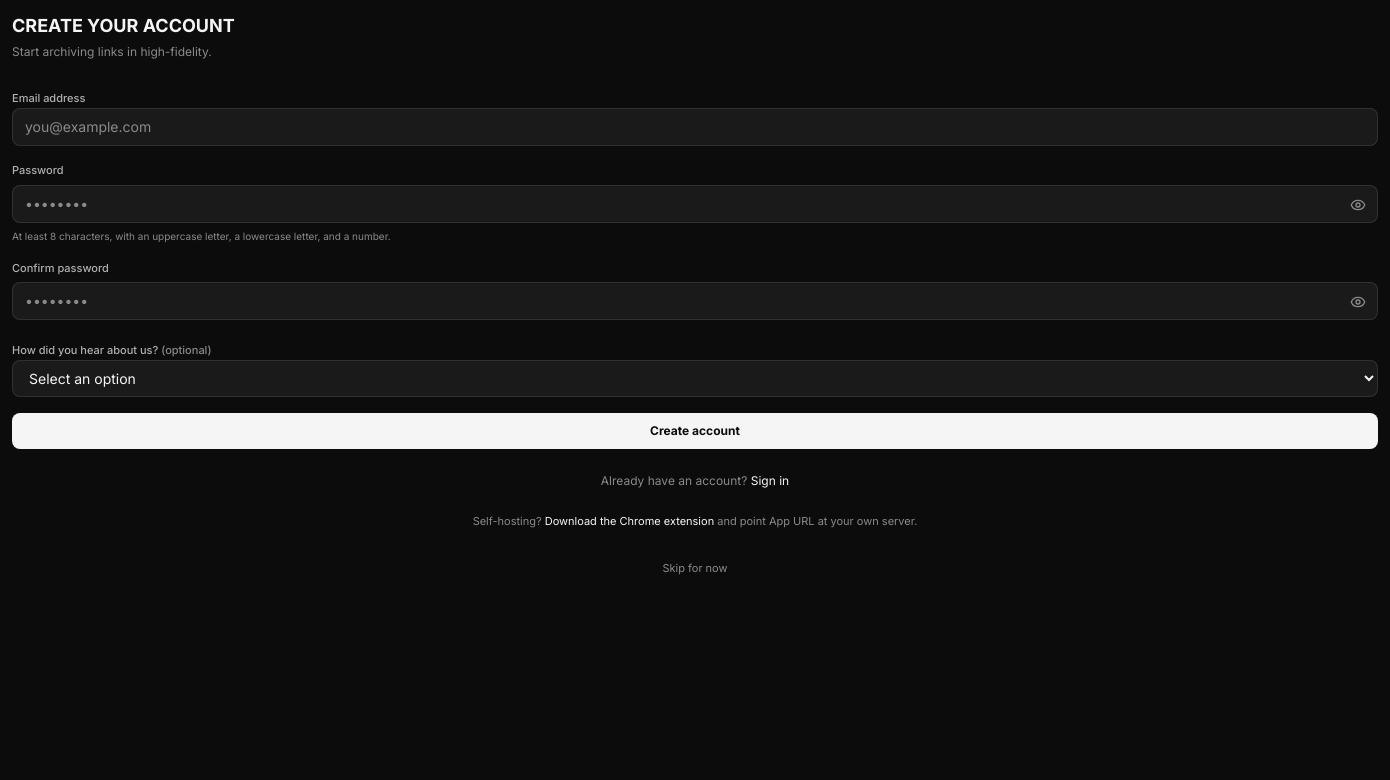
Test: SignupForm › asks for the password again when the confirmation is empty
Step 1. Type "ada@example.com" into the field labelled "Email address" → (695, 127), box [12,108,1378,146]
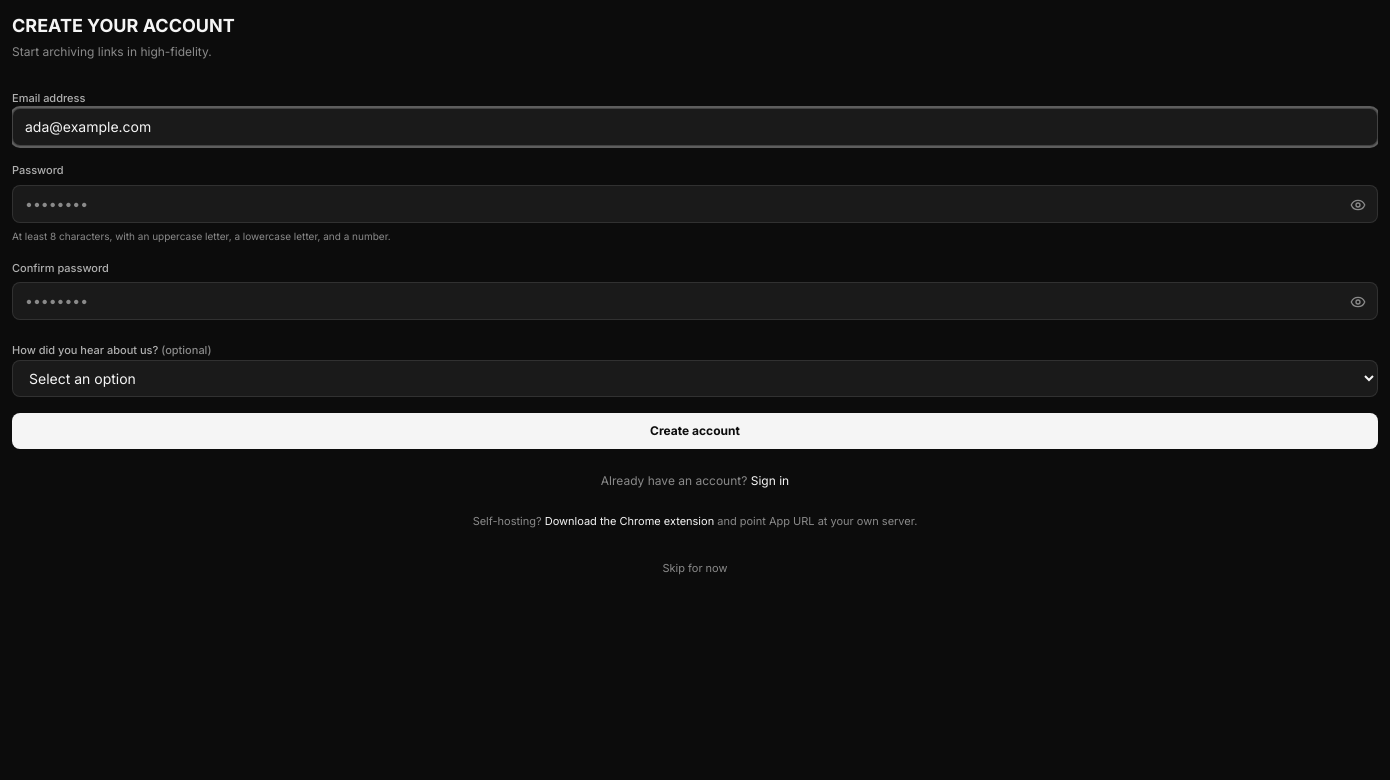
Step 2. Type "Memory404" into the password field labelled "Password" → (695, 204), box [12,184,1378,222]
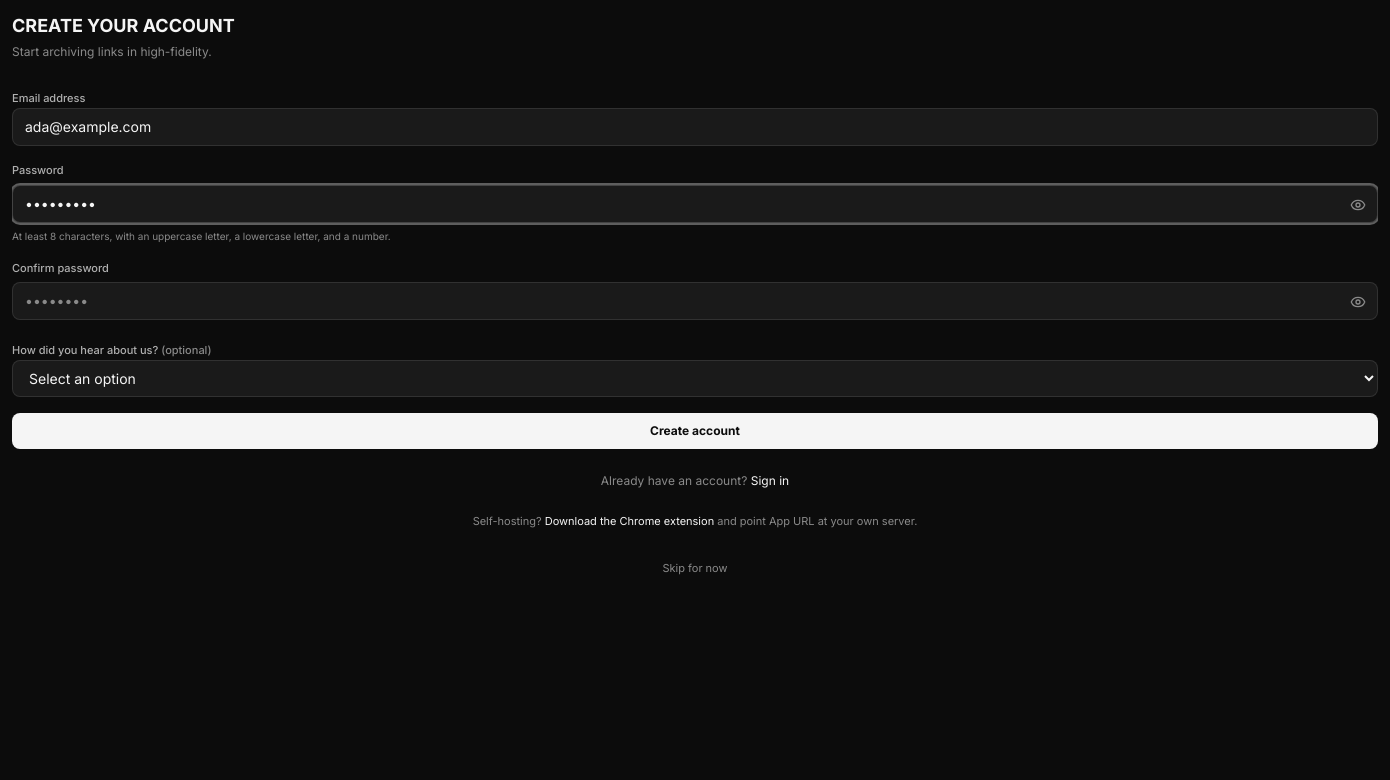
Step 3. Click the button "Create account" → (695, 431), box [12,413,1378,449]
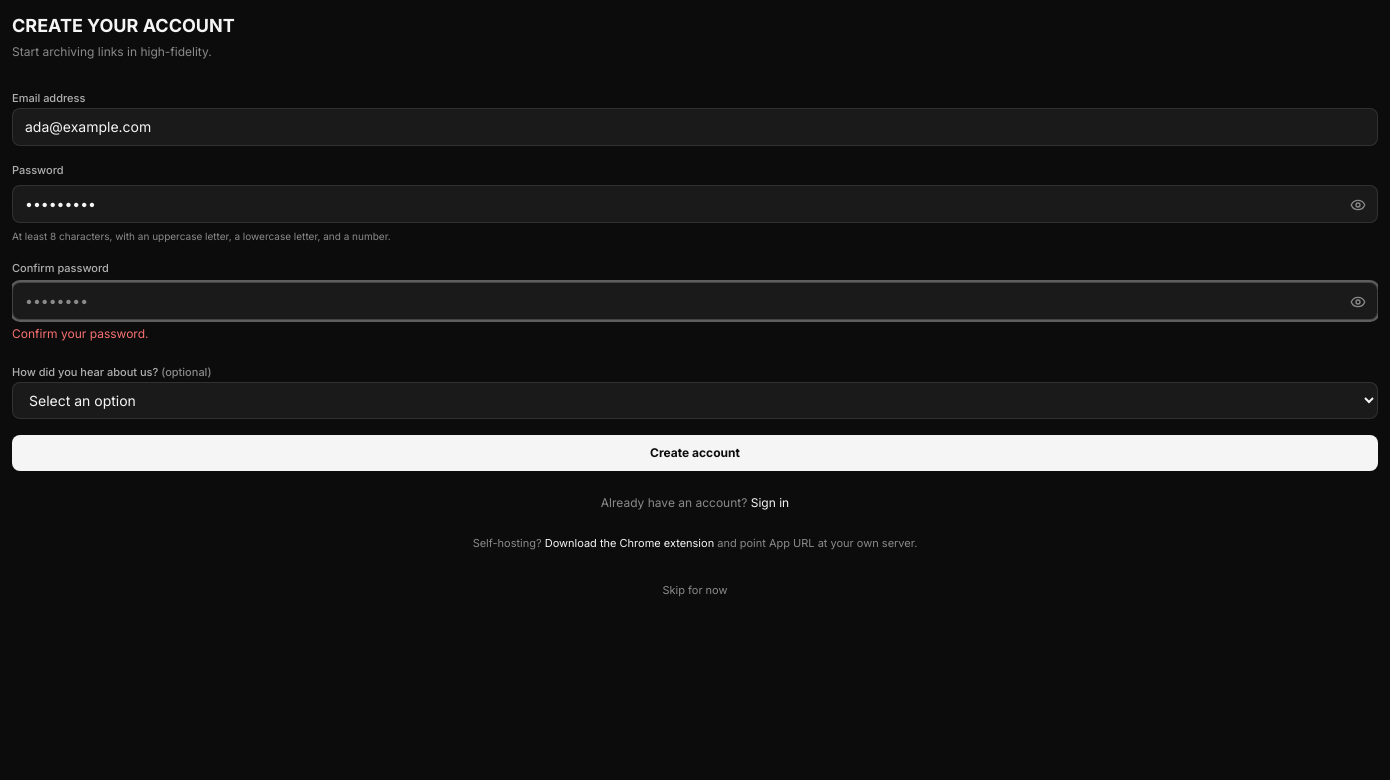
Expected: the text "Confirm your password." is shown, [12,326,148,341]
